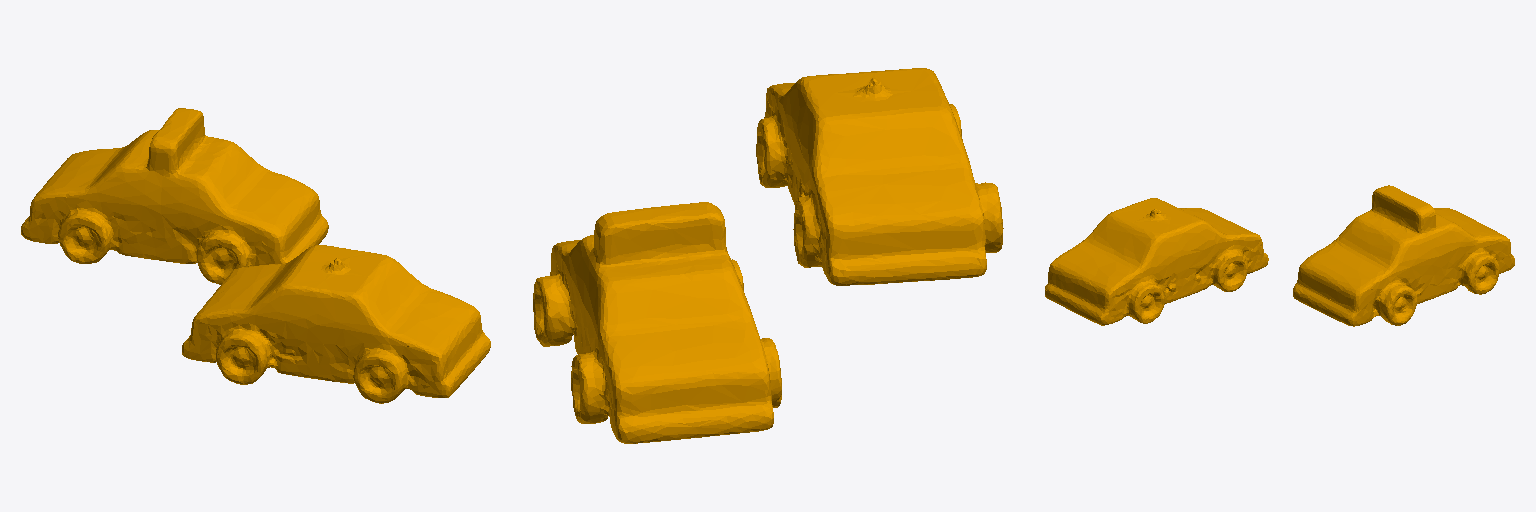
URDF robot description (CITY_TAXI_POLICE_CAR):
<?xml version="1.0" ?>
<robot name="CITY_TAXI_POLICE_CAR">
  <link name="link_0">
    <inertial>
      <origin xyz="0 0 0" rpy="0 0 0"/>
      <mass value="1.0"/>
      <inertia ixx="0.1" ixy="0.0" ixz="0.0" iyy="0.1" iyz="0.0" izz="0.1"/>
    </inertial>
    <visual name="visual">
      <origin xyz="0 0 0" rpy="0 0 0"/>
      <geometry>
        <mesh filename="meshes/model.obj"/>
      </geometry>
    </visual>
    <collision name="collision_0">
      <origin xyz="0 0 0" rpy="0 0 0"/>
      <geometry>
        <mesh filename="meshes/model.obj"/>
      </geometry>
    </collision>
  </link>
</robot>

--- Render facts (derived) ---
The picture shows the robot from 3 angles, left to right: view 1: azimuth 30°, elevation 25°; view 2: azimuth 150°, elevation 25°; view 3: azimuth 270°, elevation 25°; orthographic projection.
Robot: CITY_TAXI_POLICE_CAR — 1 links, 0 joints (none); root link link_0; default pose: all joints at 0.
Links seen in each view (by area): view 1: link_0; view 2: link_0; view 3: link_0.
Link boxes in pixels (<box>): link_0: <box>21,108,490,403</box>; link_0: <box>533,68,1003,443</box>; link_0: <box>1045,185,1514,326</box>.
Size in the robot's own frame: 0.0566 by 0.1263 by 0.028 metres.
Meshes: 1 distinct files referenced, 1 mesh visuals loaded (1 OBJ).